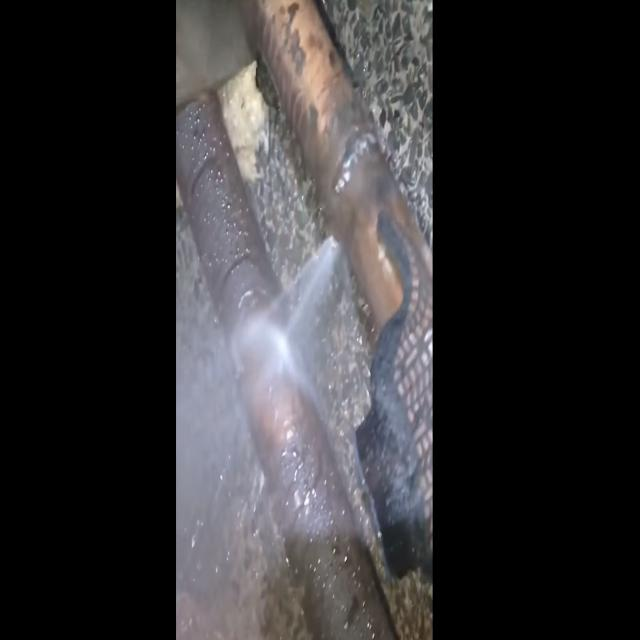leak: (170, 234, 350, 613)
